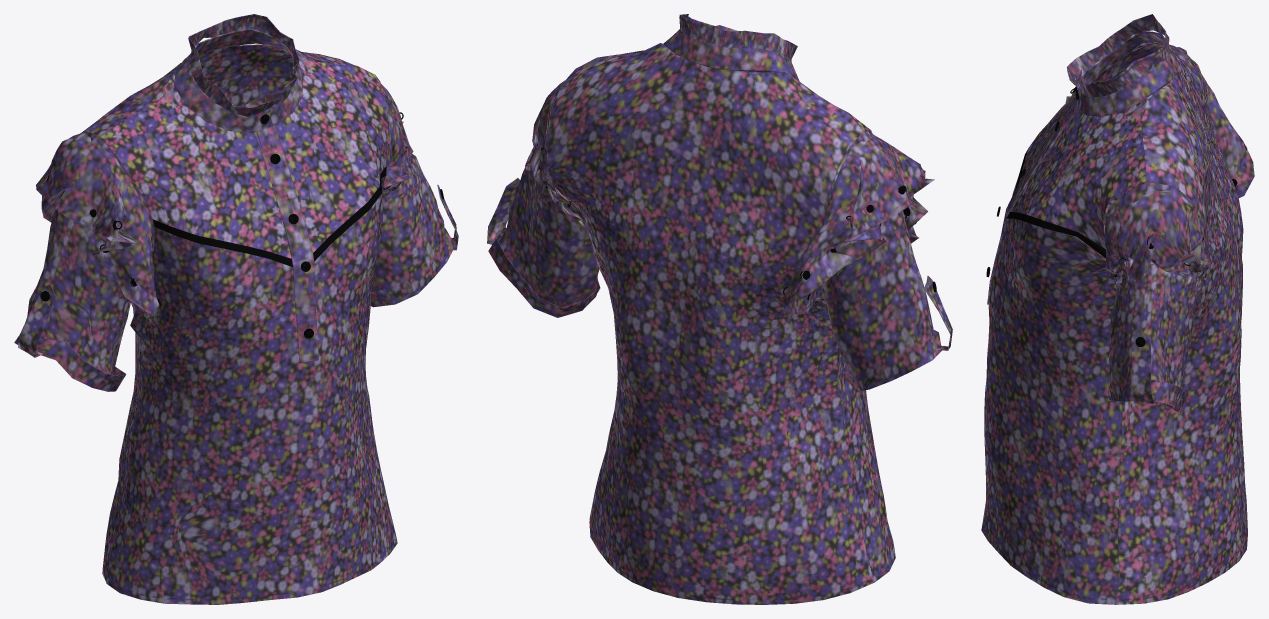
Rendered from ramoonshirtlowpoly.fbx.
3 views of the same model, side by side, from view 1: azimuth 30°, elevation 25°; view 2: azimuth 150°, elevation 25°; view 3: azimuth 270°, elevation 25° (orthographic). The views are drawn at different scales.
Visible parts, largest first — view 1: RAMOON SHIRT 成人半门禁中袖_荷叶边_34; view 2: RAMOON SHIRT 成人半门禁中袖_荷叶边_34; view 3: RAMOON SHIRT 成人半门禁中袖_荷叶边_34.
Boxes of the visible parts, bbox=[...] form: RAMOON SHIRT 成人半门禁中袖_荷叶边_34: bbox=[14, 14, 458, 604]; RAMOON SHIRT 成人半门禁中袖_荷叶边_34: bbox=[487, 14, 952, 604]; RAMOON SHIRT 成人半门禁中袖_荷叶边_34: bbox=[981, 14, 1254, 604].
Size of the model in its own units: 58.75 by 66.49 by 32.07.
184 materials, 184 textured.
